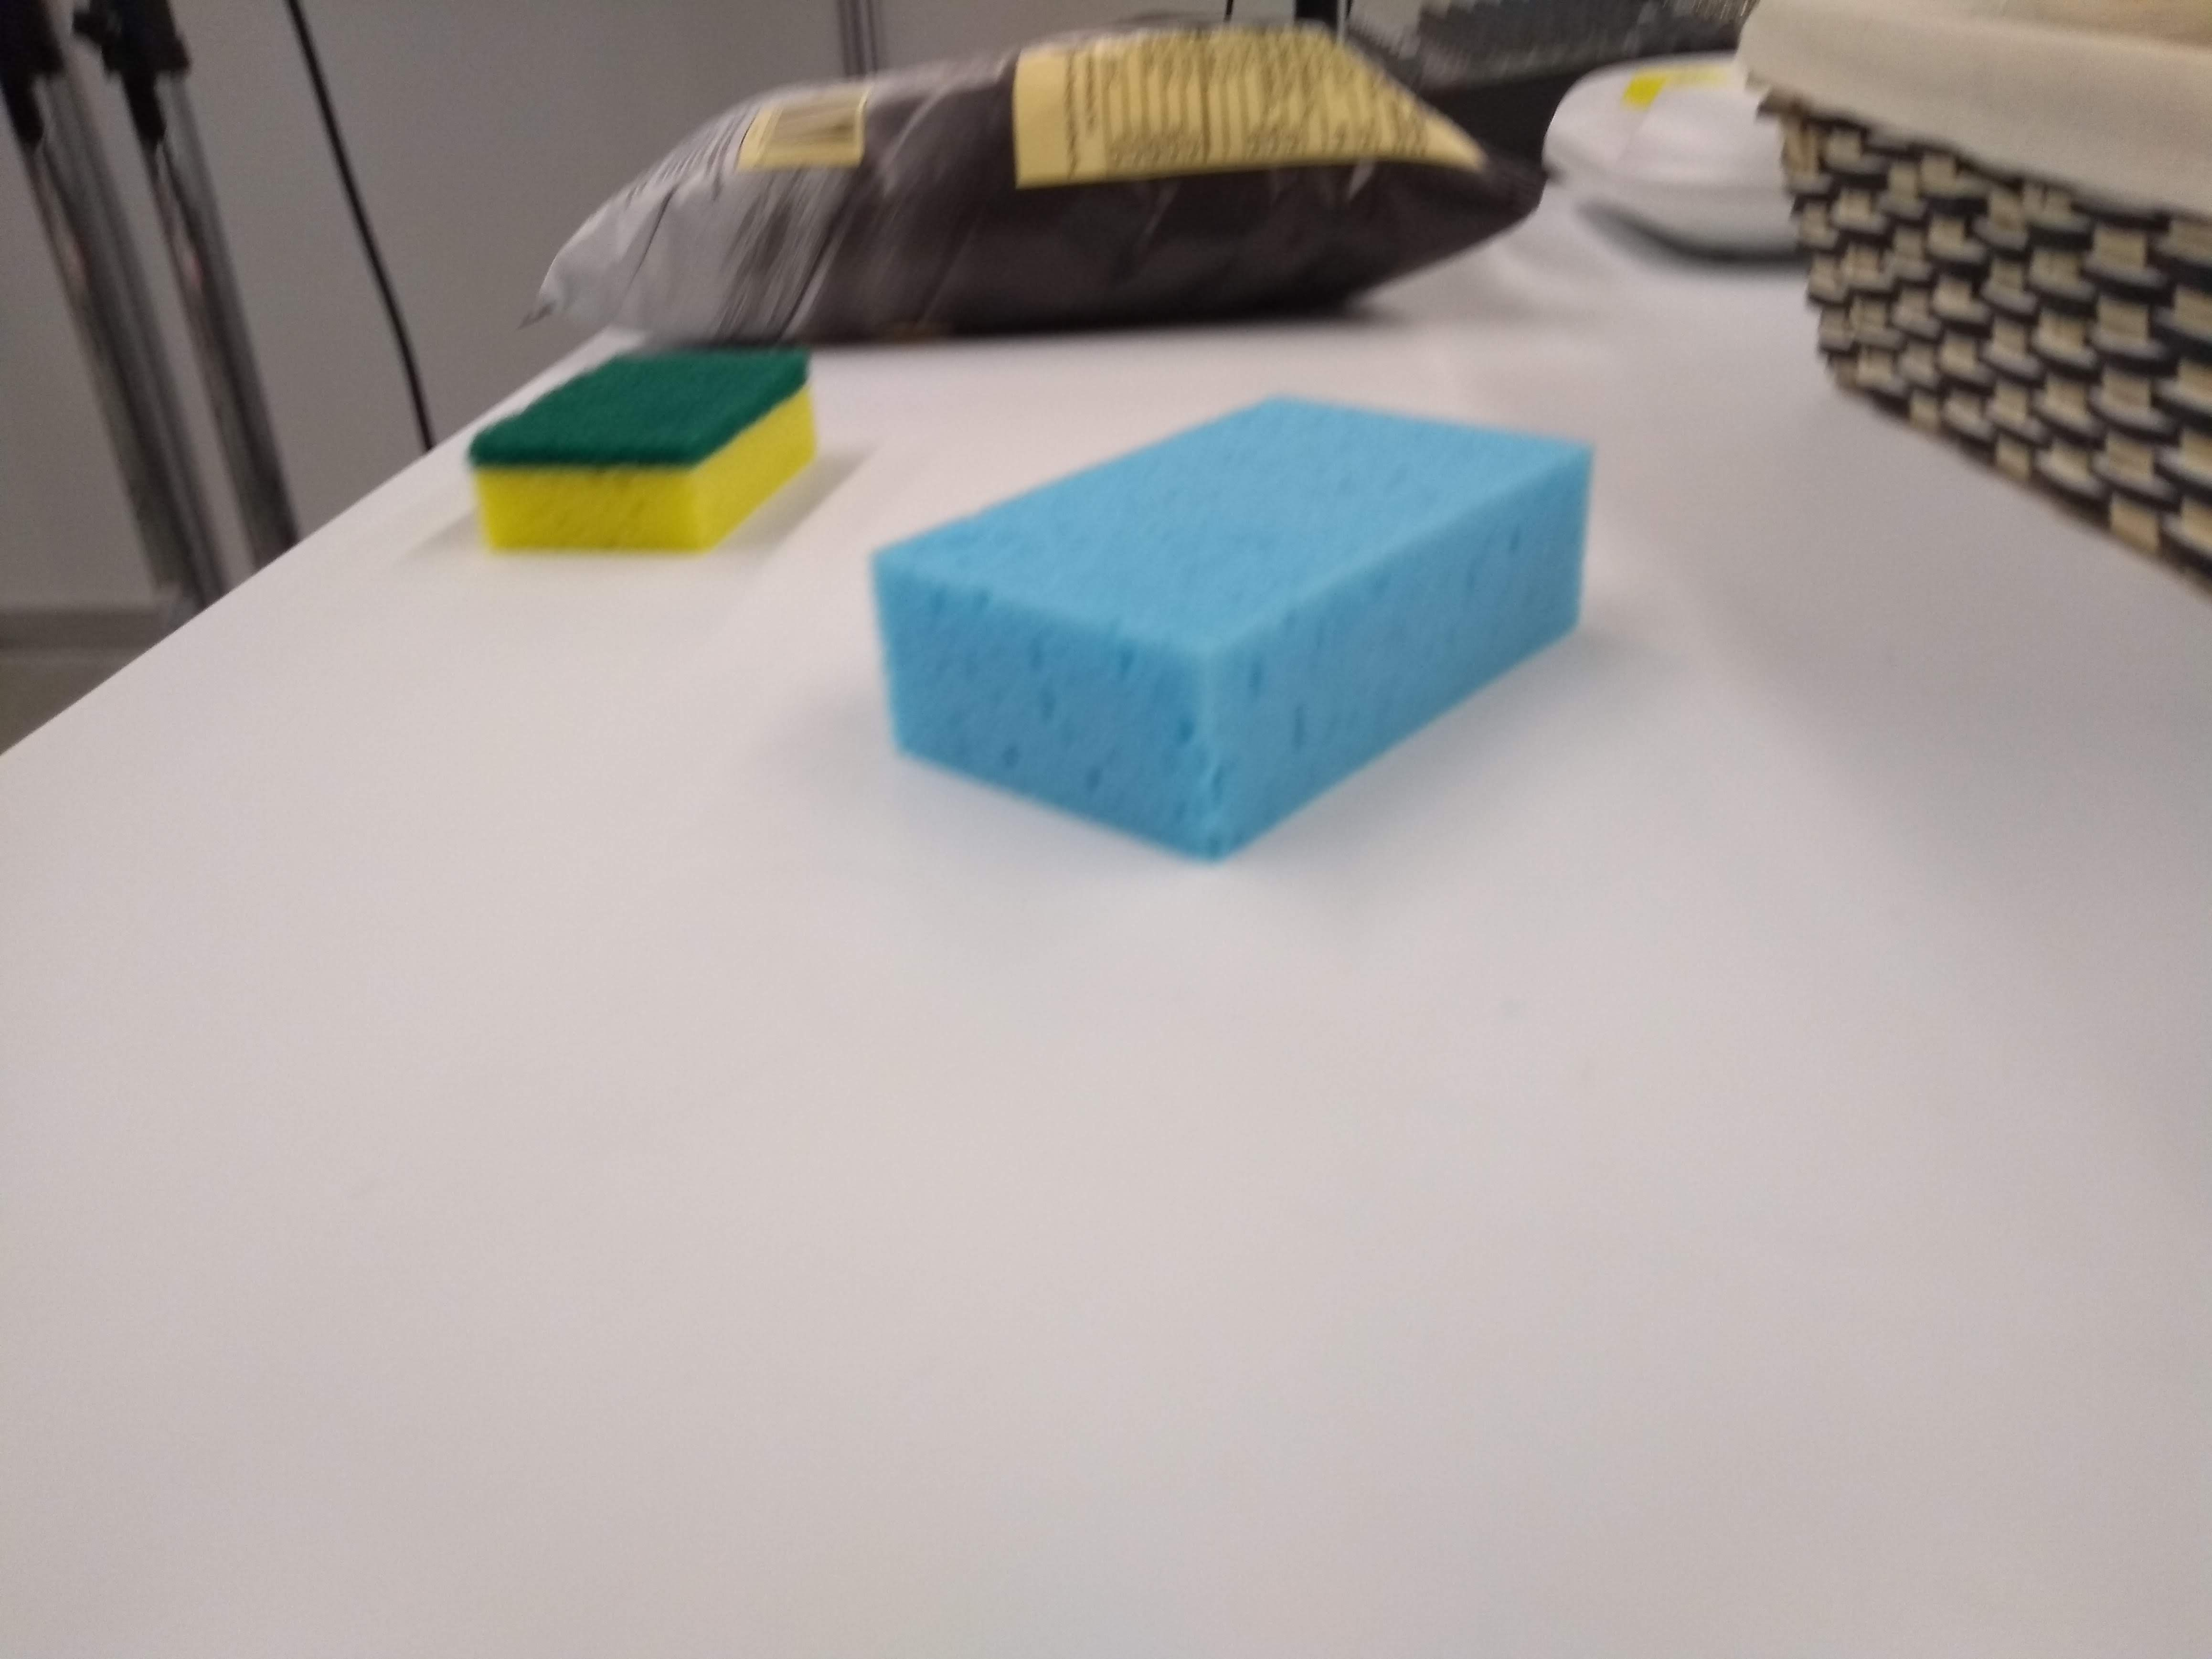potato_chips: (510, 16, 1564, 359)
scrubby: (460, 335, 829, 568)
sponge_opl: (855, 382, 1602, 878)
